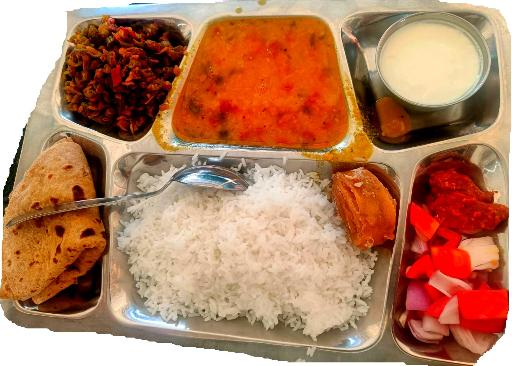Curd: (378, 11, 494, 104)
Dal: (183, 13, 344, 144)
Pickle: (434, 161, 503, 226)
Rice: (120, 166, 390, 329)
Roti: (1, 141, 108, 306)
Salad: (404, 239, 508, 354)
Sweet: (336, 161, 392, 246)
Vegetable: (62, 15, 169, 134)
